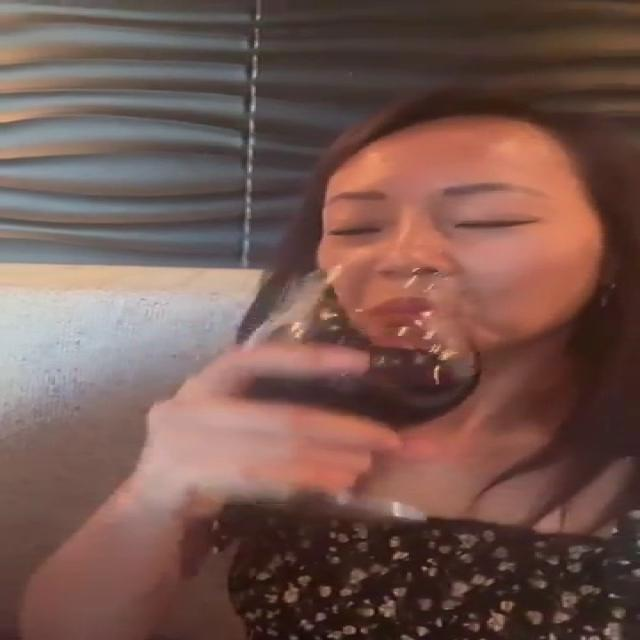Cup: (204, 268, 480, 524)
Hand: (141, 342, 449, 522)
Mouth: (354, 295, 476, 326)
